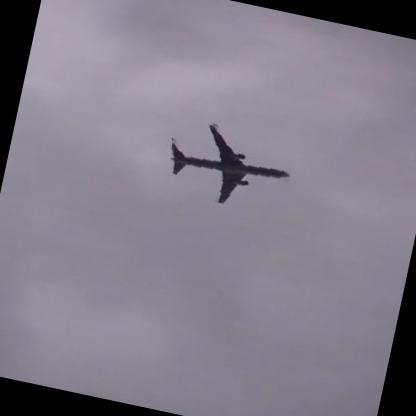plane: (160, 112, 300, 220)
